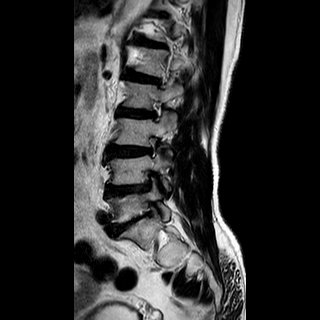LFS0: (145, 94, 168, 128)
LFS2: (139, 130, 164, 160)
